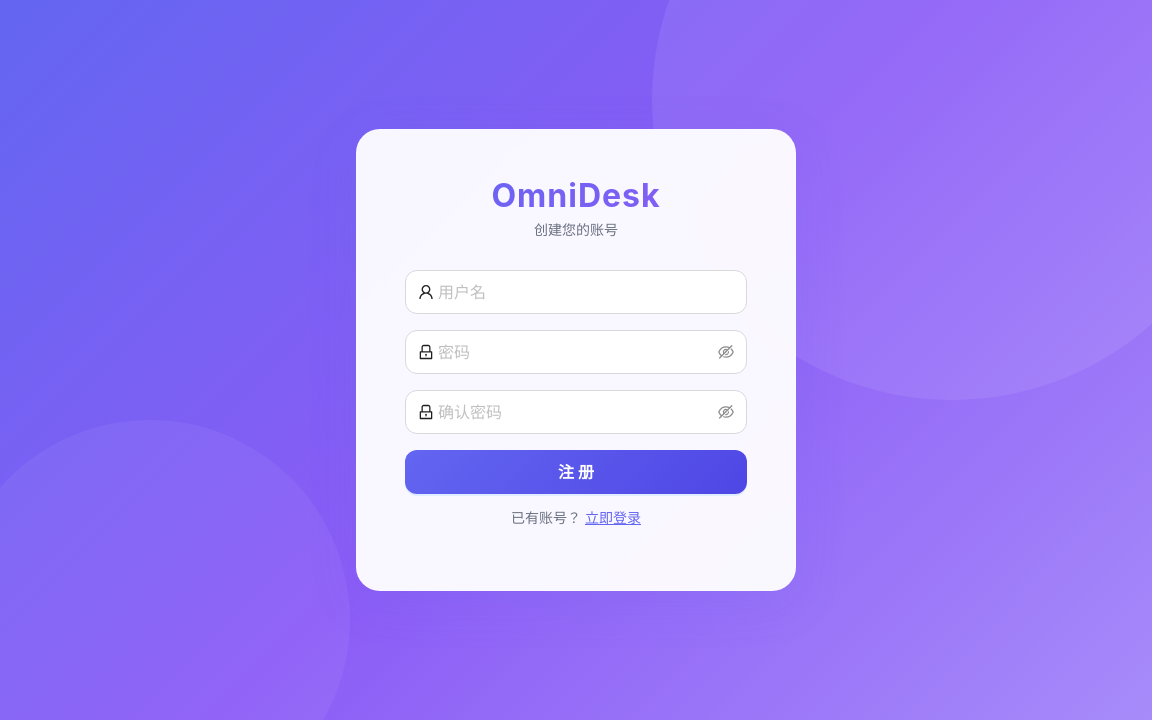
Register Component › should show error message on failed registration
Type "existinguser" into the field with placeholder "用户名" at (586, 292), box [438, 279, 734, 305]
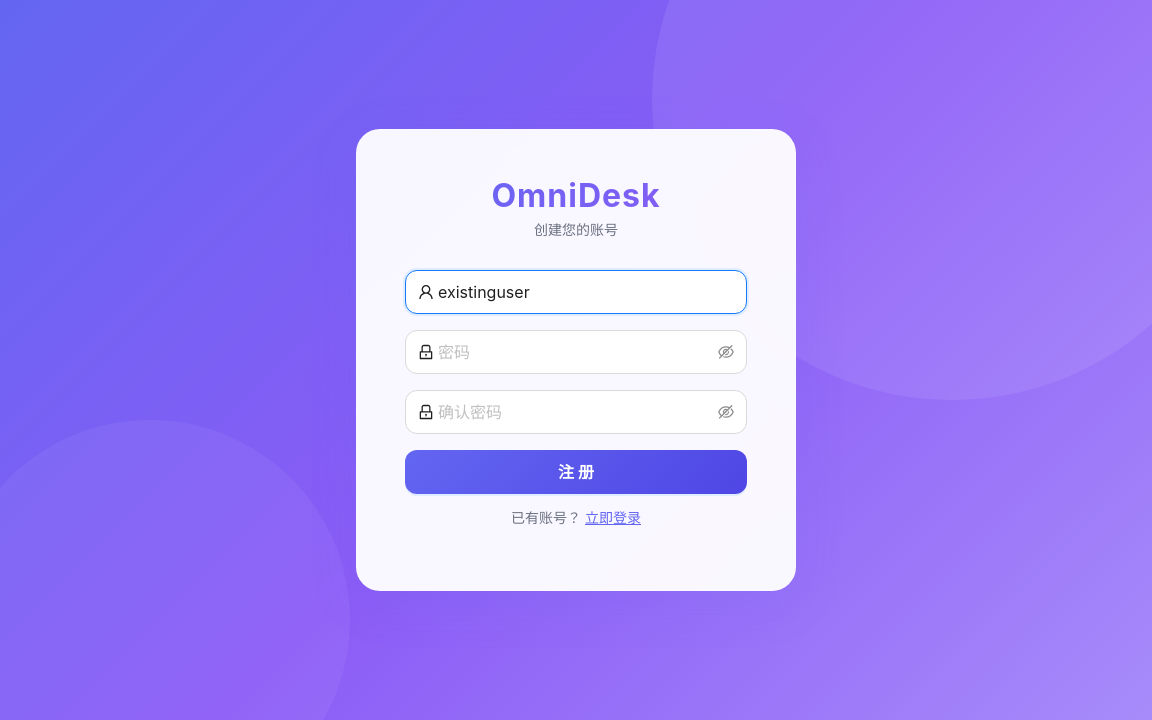
Type "password" into the password field with placeholder "密码" at (576, 352), box [438, 339, 714, 365]
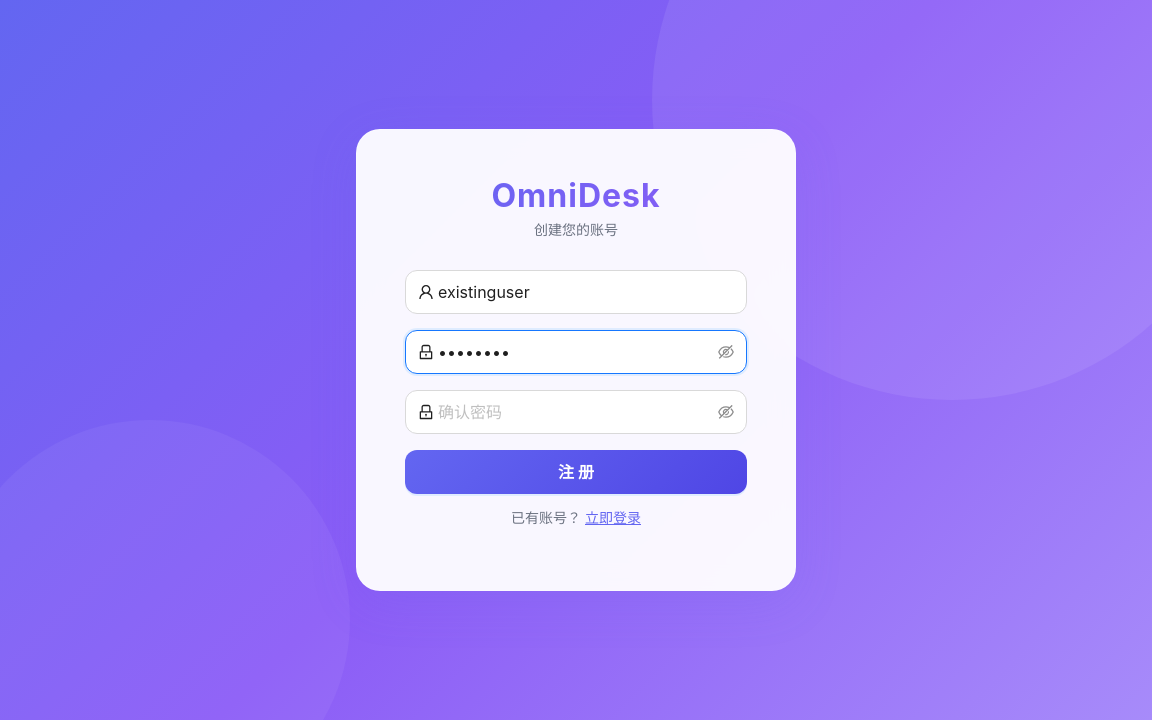
Type "password" into the password field with placeholder "确认密码" at (576, 412), box [438, 399, 714, 425]
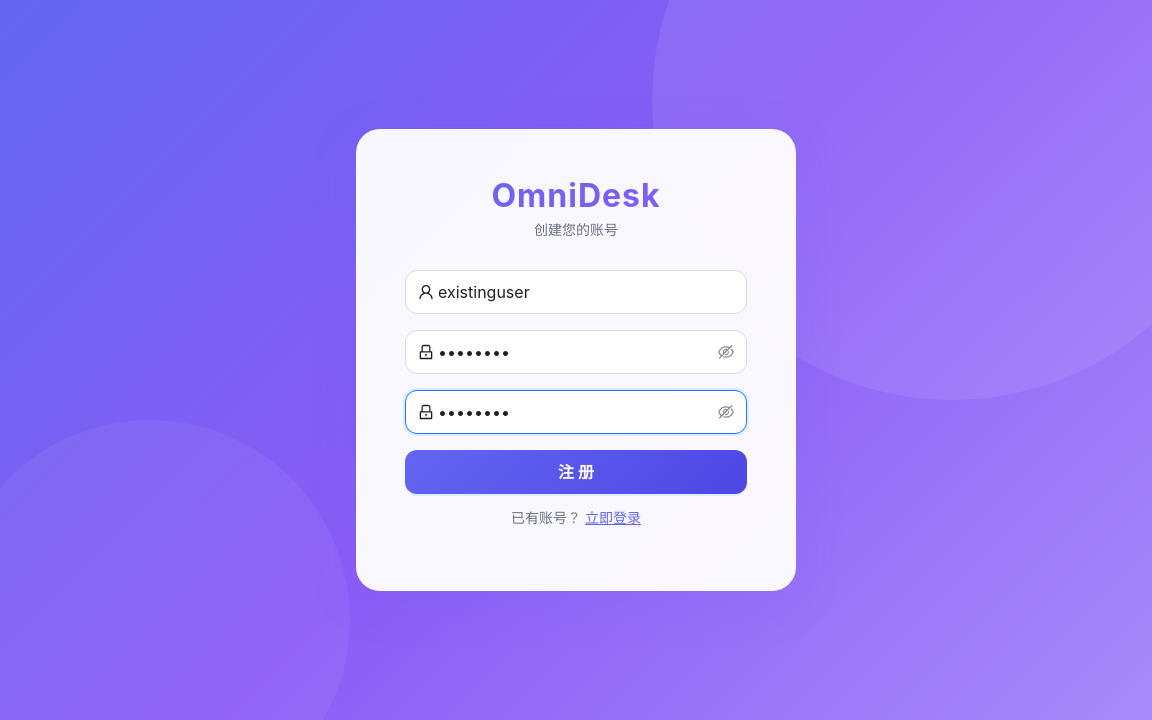
Click the button at (576, 472), box [405, 450, 747, 494]
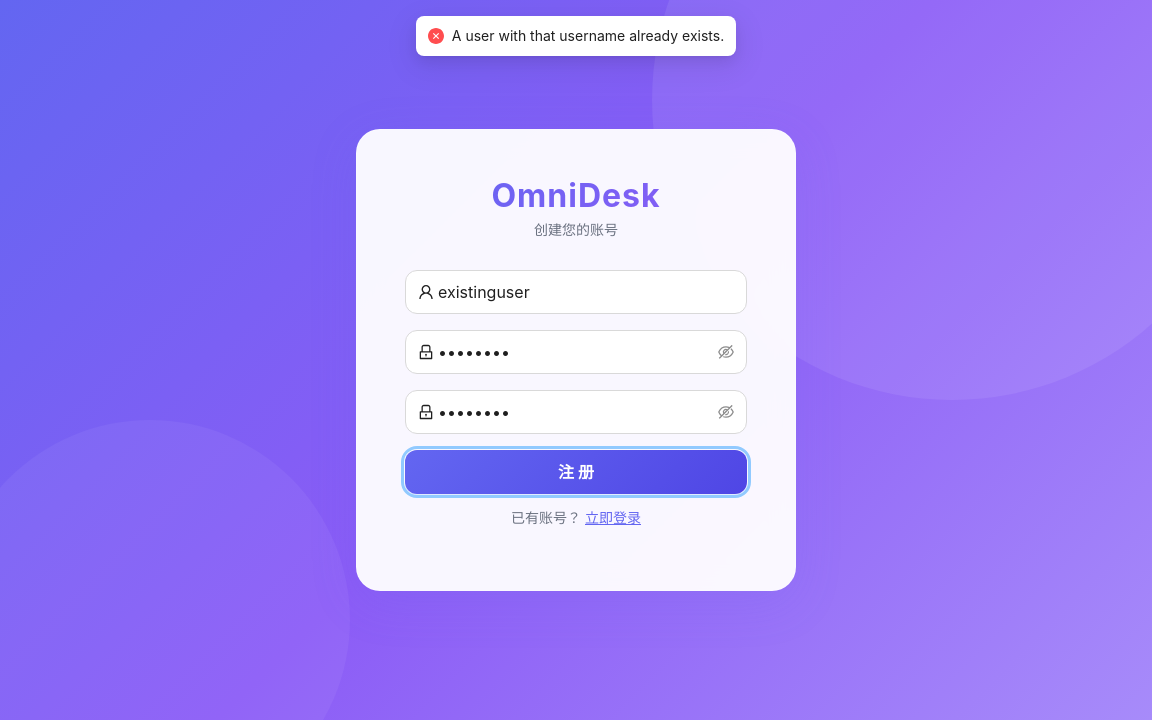
Check: the text "A user with that username already exists." is shown, box [452, 25, 724, 47]
